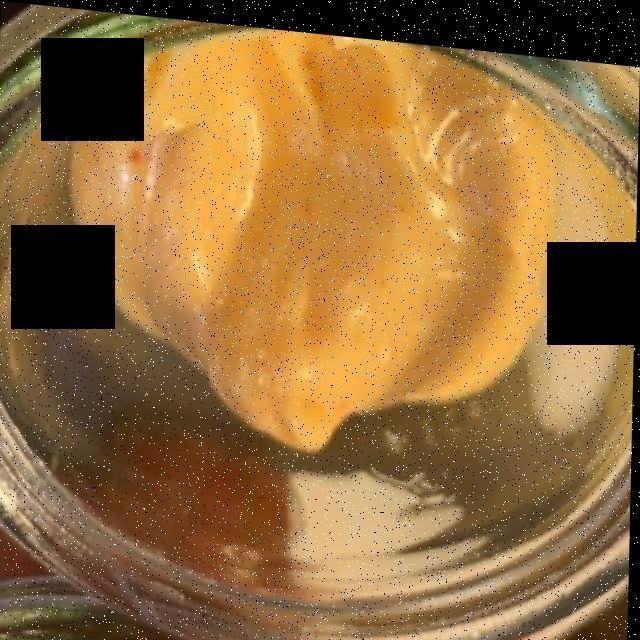mayonnaise: (75, 32, 572, 437)
